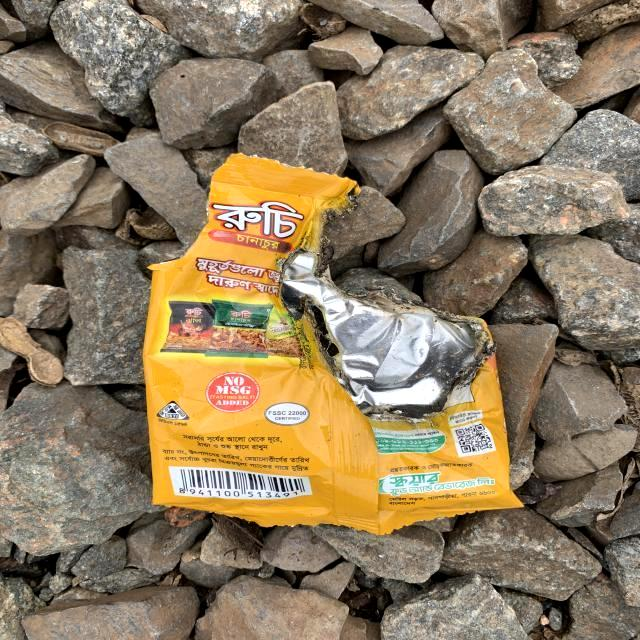packet: (128, 150, 520, 523)
